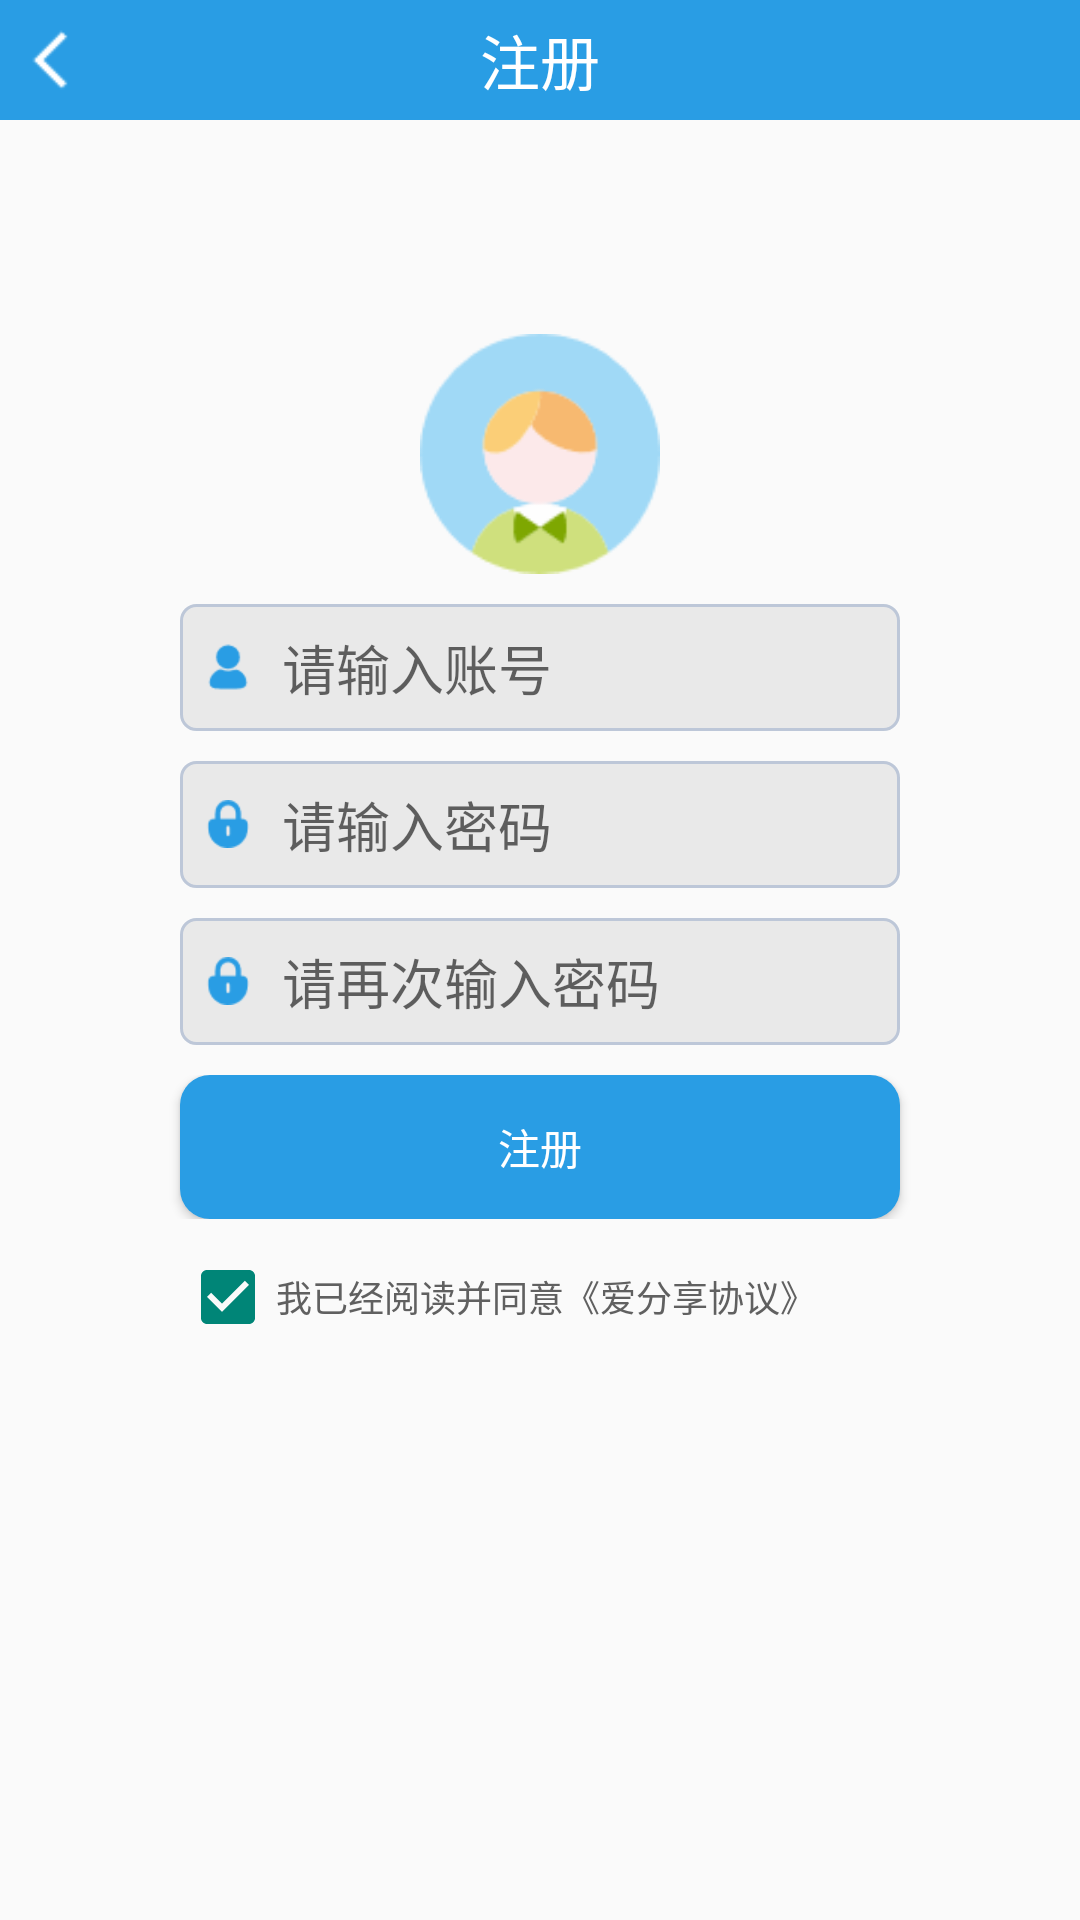

Icons on this 1080px×1920px Android screen, each with its box as (x1, y1, x2, y2):
exit: (33, 31, 67, 88)
portrait: (420, 334, 660, 574)
